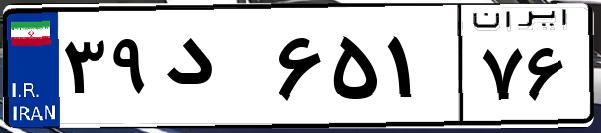1: (385, 28, 445, 110)
3: (57, 26, 110, 100)
5: (330, 28, 385, 110)
6: (270, 28, 330, 110), (525, 38, 570, 115)
7: (475, 38, 525, 113)
9: (110, 28, 158, 98)
د: (158, 20, 270, 120)
